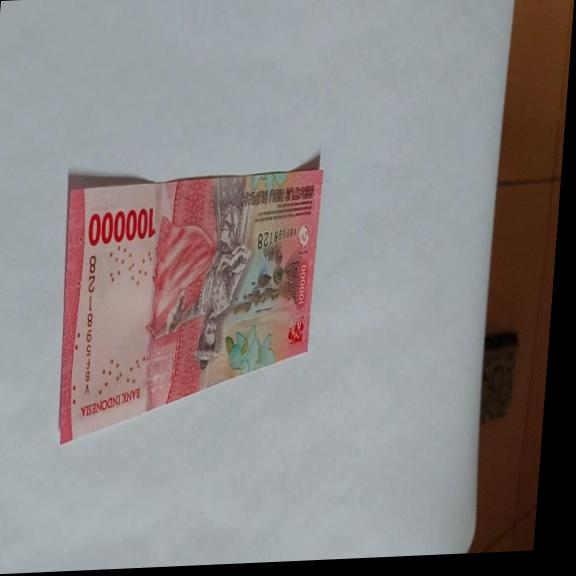Kertas: (48, 161, 324, 446), (85, 205, 157, 247)
